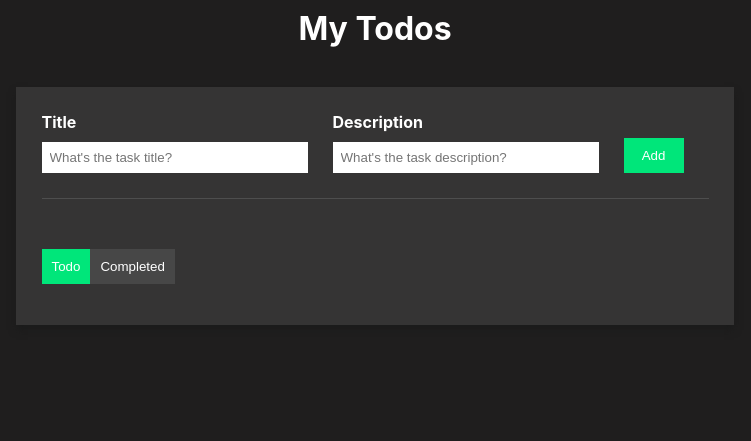
Test: App Component › can add a new todo
# INPUT NEW TITLE AND DESCRIPTION
Step 1. Type "Test Todo" into the field with placeholder "What's the task title?" → (174, 158), box [42, 142, 308, 173]
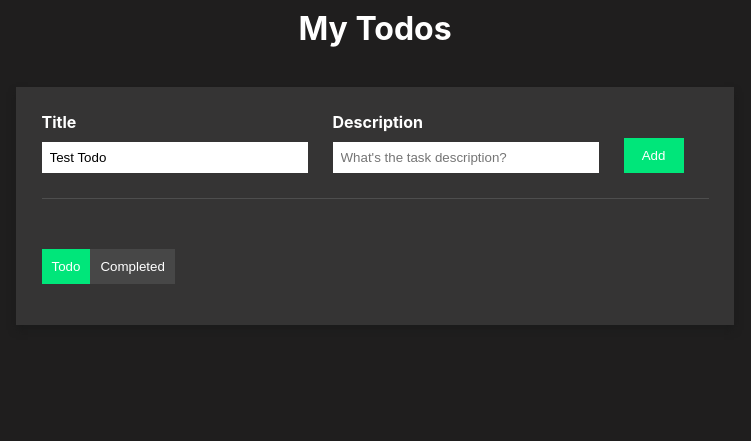
Step 2. Type "Test Description" into the field with placeholder "What's the task description?" → (466, 158), box [332, 142, 598, 173]
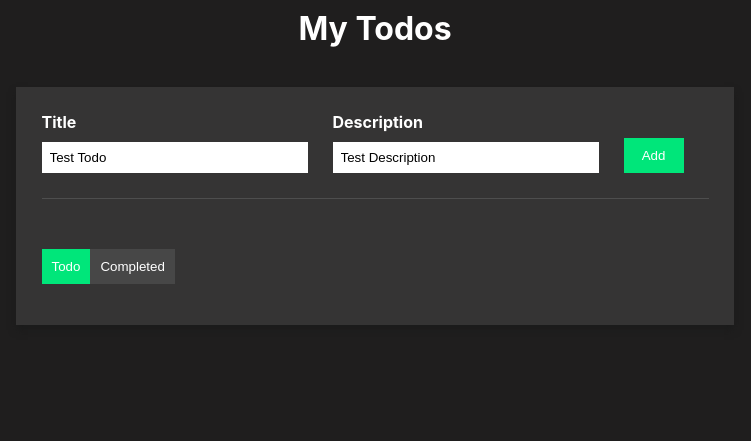
# CLICK THE ADD BUTTON
Step 3. Click the button "Add" → click(654, 155), box [624, 138, 684, 173]
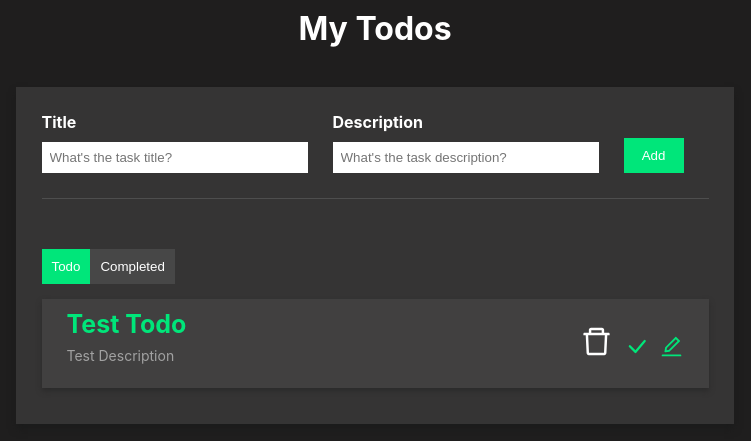
expect the heading "Test Todo" is shown: met, box [66, 309, 186, 339]
